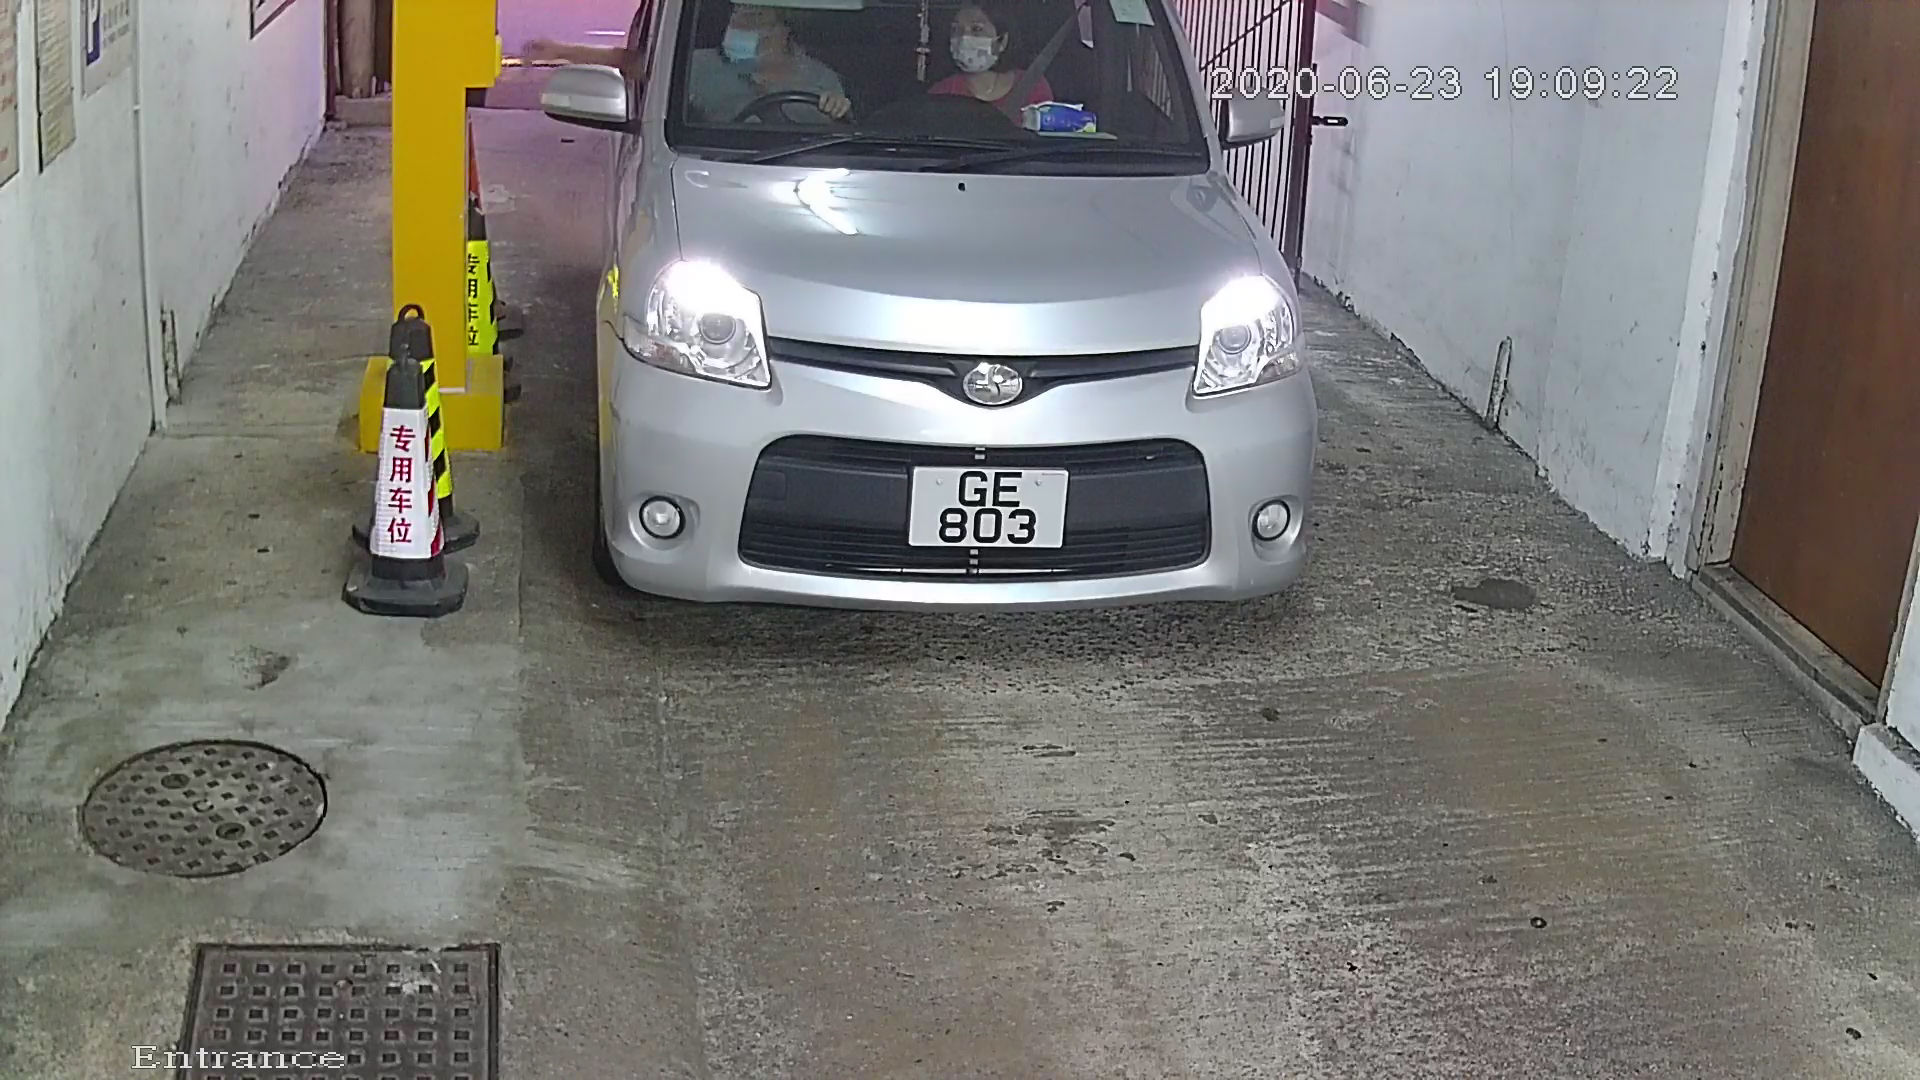privatecar: (555, 3, 1342, 632)
